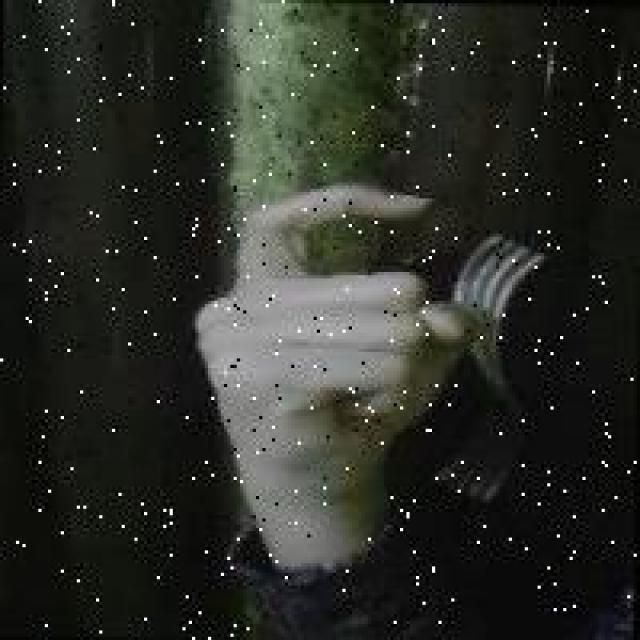X: (176, 168, 506, 507)
